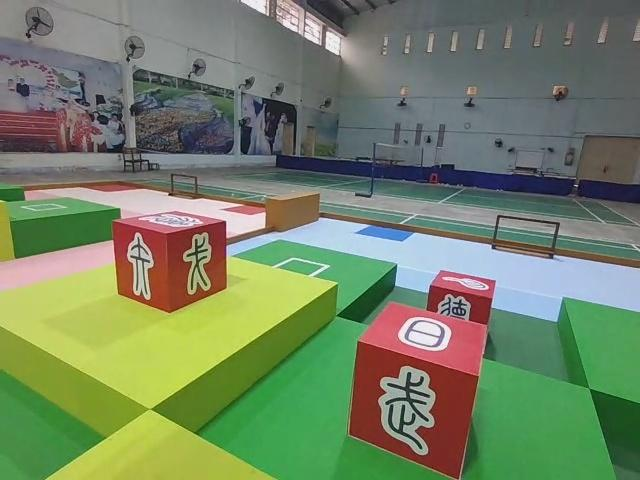R2 Fake: (347, 297, 491, 480), (111, 208, 230, 314), (424, 267, 498, 354)
